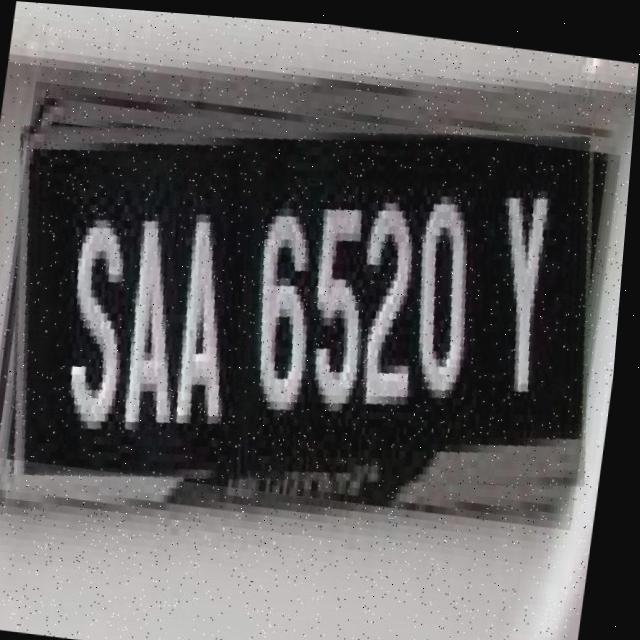LicensePlate: (0, 79, 625, 523)
